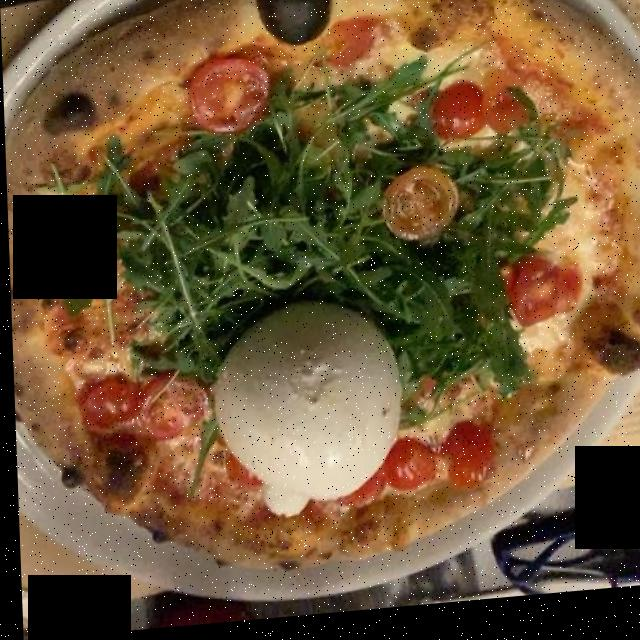mozzarella: (208, 314, 391, 510)
pizza-margherita-baked: (16, 0, 634, 565)
salad-rocket: (42, 87, 562, 416)
tomato-raw: (81, 61, 581, 513)
